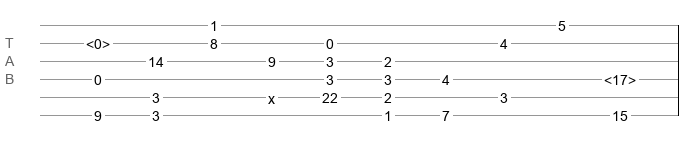0: (94, 72, 102, 82), (326, 36, 334, 46)
1: (210, 18, 218, 28), (384, 108, 392, 118)
14: (148, 54, 164, 64)
15: (612, 108, 628, 118)
2: (384, 54, 392, 64), (384, 90, 392, 100)
22: (322, 90, 338, 100)
3: (152, 108, 160, 118), (152, 90, 160, 100), (326, 72, 334, 82), (326, 54, 334, 64), (384, 72, 392, 82), (500, 90, 508, 100)
4: (442, 72, 450, 82), (500, 36, 508, 46)
5: (558, 18, 566, 28)
7: (442, 108, 450, 118)
8: (210, 36, 218, 46)
9: (94, 108, 102, 118), (268, 54, 276, 64)
harmonic: (604, 72, 636, 82), (86, 36, 110, 46)
x: (268, 91, 275, 99)
